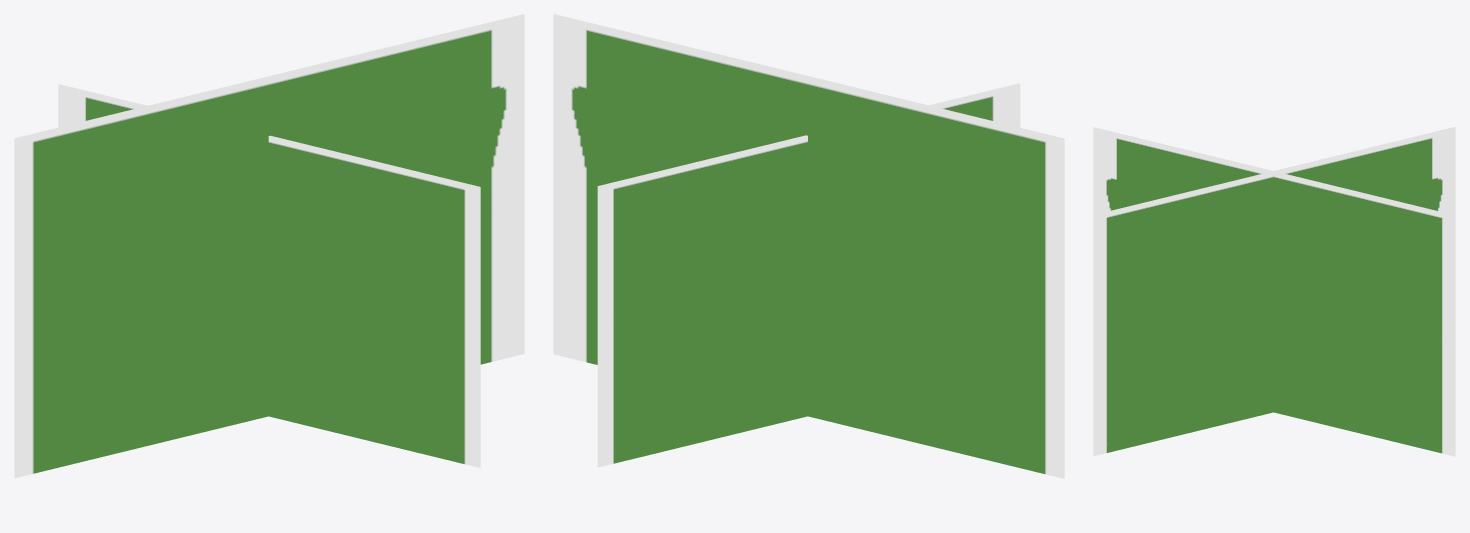
Rendered from Grass_08-1.glb.
3 renders of one model, left to right at view 1: azimuth 30°, elevation 25°; view 2: azimuth 150°, elevation 25°; view 3: azimuth 270°, elevation 25°, orthographic. The views are drawn at different scales.
Visible parts, largest first — view 1: Grass_08-1_LOD0; view 2: Grass_08-1_LOD0; view 3: Grass_08-1_LOD0.
Part boxes in pixels (x1,y1,x2,y2): Grass_08-1_LOD0: [14, 14, 524, 478]; Grass_08-1_LOD0: [553, 14, 1064, 478]; Grass_08-1_LOD0: [1093, 127, 1455, 456].
Size of what is drawn, in the model's own units: 0.2795 by 0.1778 by 0.2004.
Materials: 1 (1 with a texture image).
